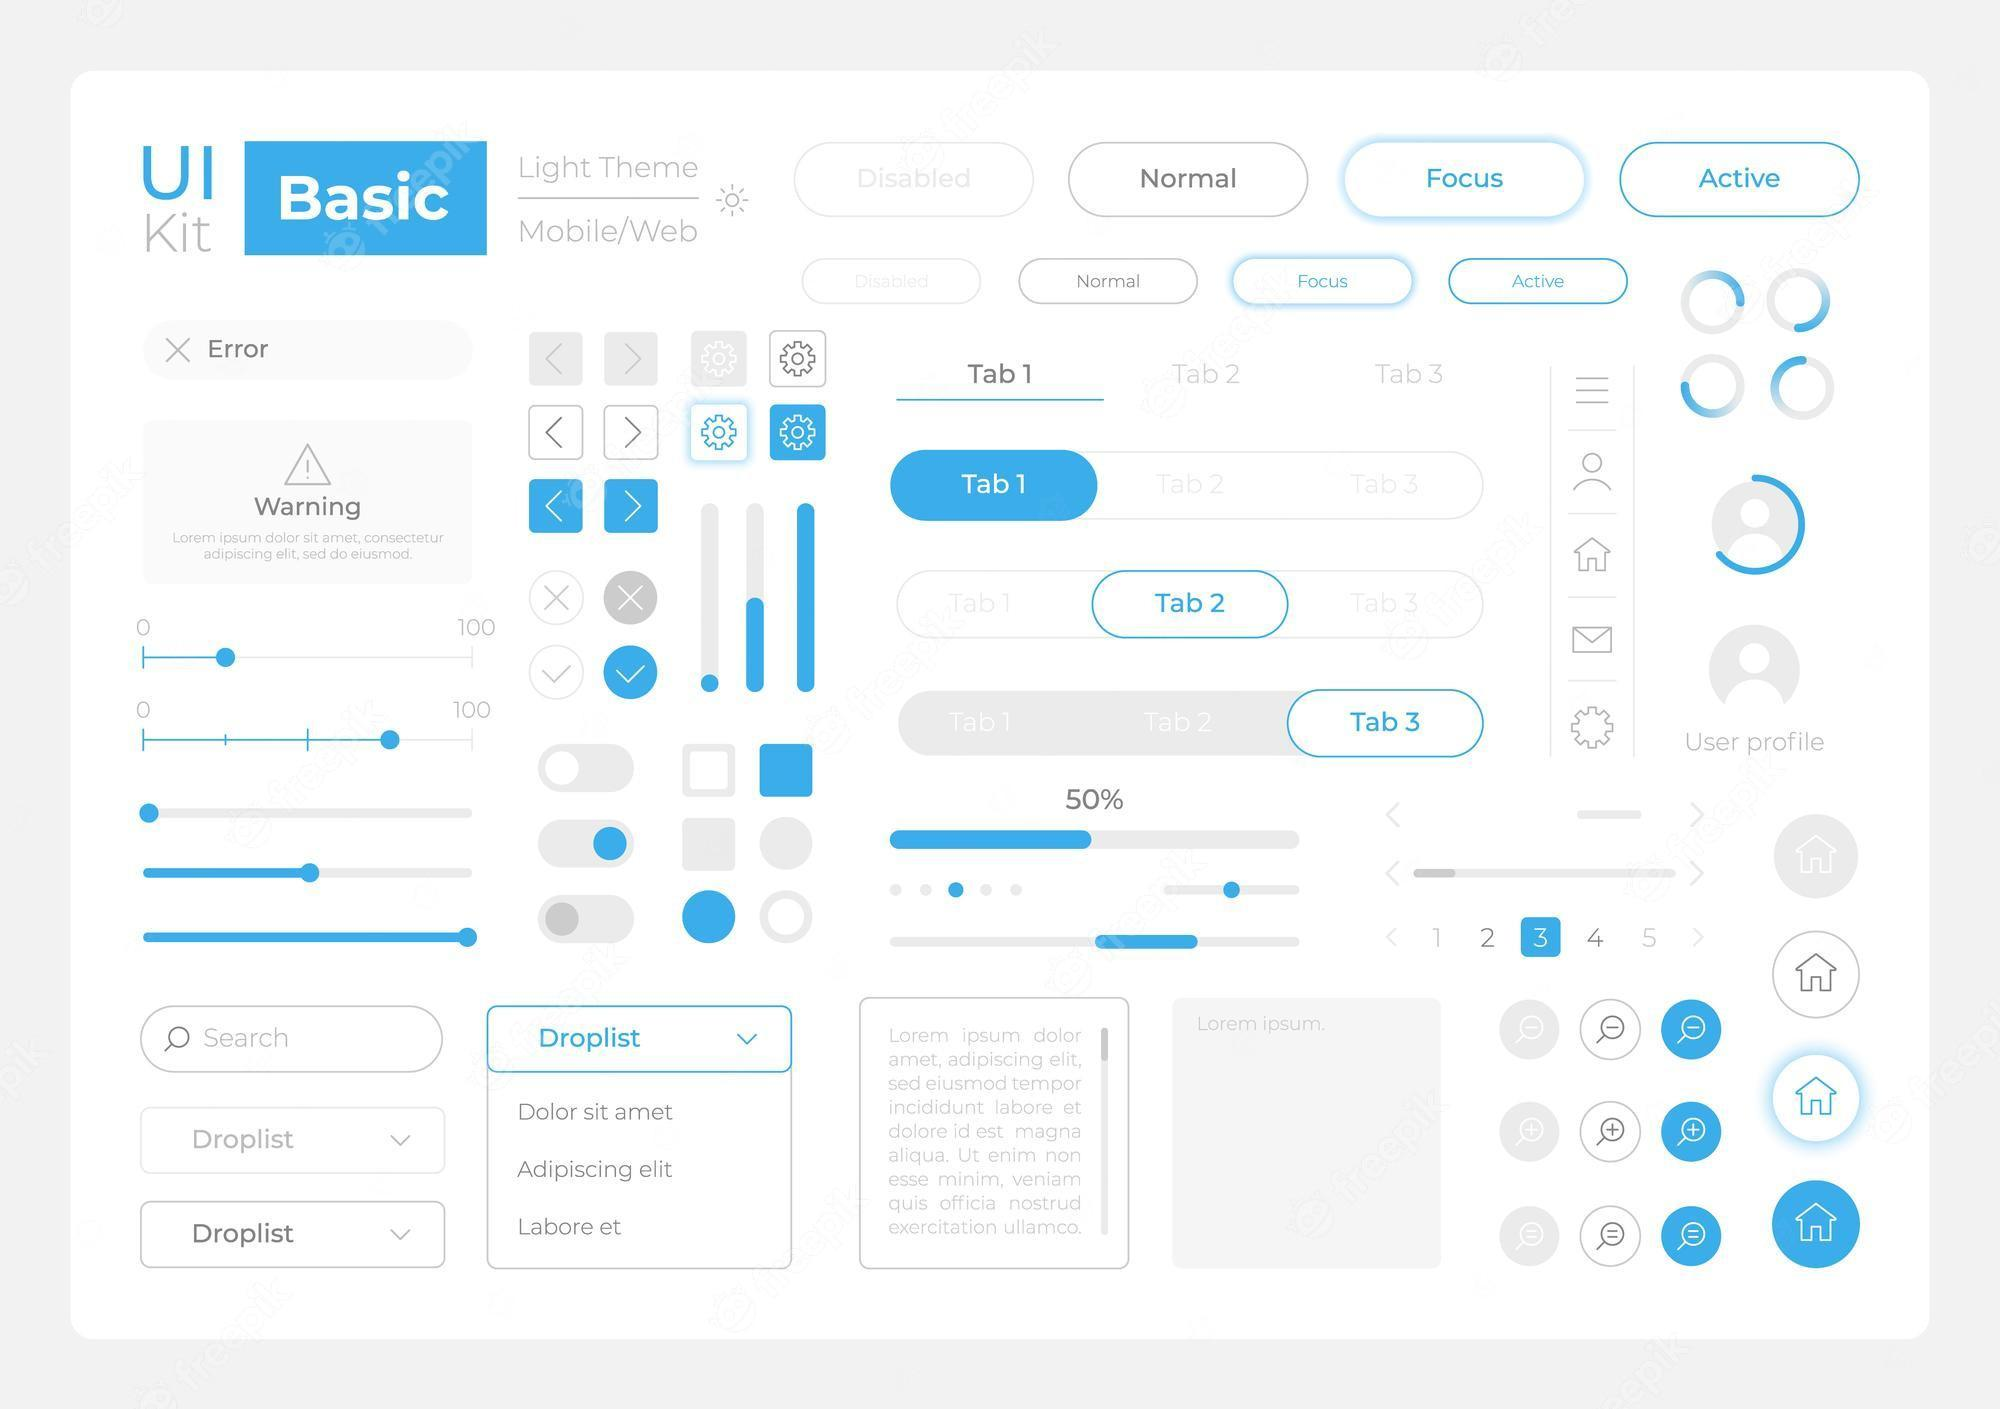button: (1611, 140, 1867, 221), (791, 140, 1037, 223), (1341, 140, 1593, 220), (1067, 140, 1312, 220), (1230, 258, 1418, 310), (1450, 255, 1630, 307), (1018, 259, 1200, 308)
checkbox: (681, 743, 738, 801), (683, 817, 739, 874), (761, 743, 816, 799), (761, 817, 816, 872)
dropdown: (140, 1200, 448, 1272), (139, 1106, 448, 1176), (486, 1006, 794, 1075)
icon: (1762, 1048, 1867, 1147), (1765, 929, 1869, 1026), (1768, 808, 1867, 904), (1767, 1179, 1867, 1272), (1659, 1205, 1723, 1272), (1581, 1205, 1643, 1272), (1581, 1099, 1642, 1167), (1662, 999, 1724, 1061), (1500, 1102, 1562, 1163), (1662, 1101, 1723, 1163), (1502, 1208, 1562, 1269), (1581, 1002, 1642, 1063), (691, 406, 752, 465), (527, 403, 585, 464), (604, 403, 662, 464), (604, 477, 662, 538), (527, 644, 585, 704), (1502, 1000, 1559, 1060), (770, 331, 828, 390), (768, 404, 828, 462), (527, 477, 585, 537), (604, 331, 662, 389), (604, 644, 660, 701), (529, 570, 585, 627), (604, 570, 660, 627), (691, 332, 748, 387), (530, 332, 585, 387), (1566, 703, 1617, 752), (1570, 445, 1614, 502), (1569, 531, 1617, 581), (713, 181, 759, 229), (1566, 624, 1619, 660), (1570, 372, 1617, 412), (162, 1025, 194, 1057)
input: (140, 1006, 445, 1075)
radio: (761, 892, 817, 944)
slider: (127, 778, 488, 833), (887, 814, 1305, 862), (877, 921, 1305, 967), (130, 849, 492, 903), (1370, 849, 1712, 898), (130, 640, 505, 676), (139, 921, 491, 956), (127, 724, 509, 756), (1152, 872, 1306, 904)
switch: (892, 451, 1485, 528), (896, 570, 1483, 639), (896, 692, 1483, 756), (540, 817, 637, 872), (541, 894, 634, 944), (538, 747, 636, 794)
